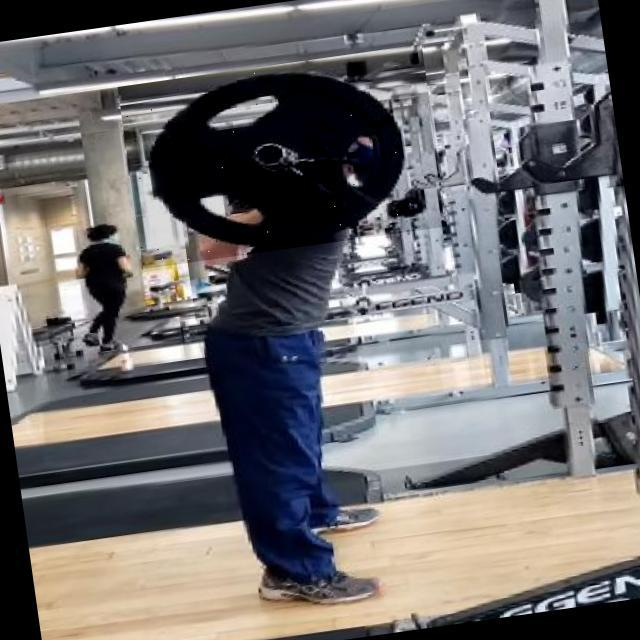barbell: (119, 46, 449, 273)
